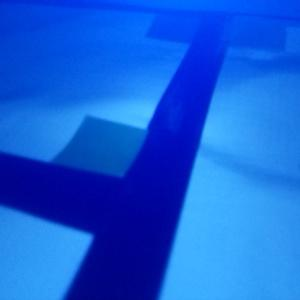bottom_left: (146, 7, 229, 43)
bottom_right: (199, 8, 286, 49)
top_left: (51, 115, 150, 223)
